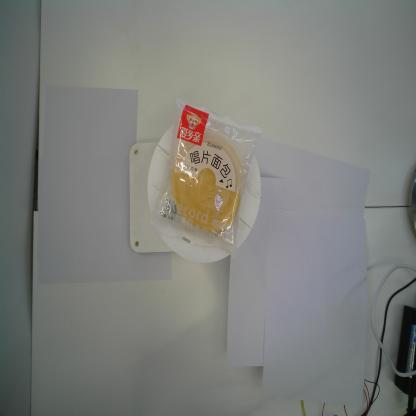Dessert: (147, 94, 265, 258)
